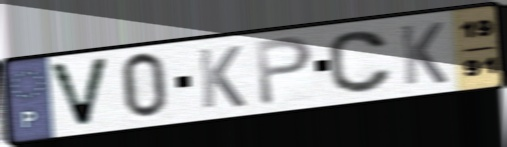0: (117, 50, 172, 124)
C: (325, 29, 396, 96)
K: (397, 19, 450, 88), (195, 43, 248, 111)
P: (252, 33, 316, 109)
V: (45, 55, 113, 130)
